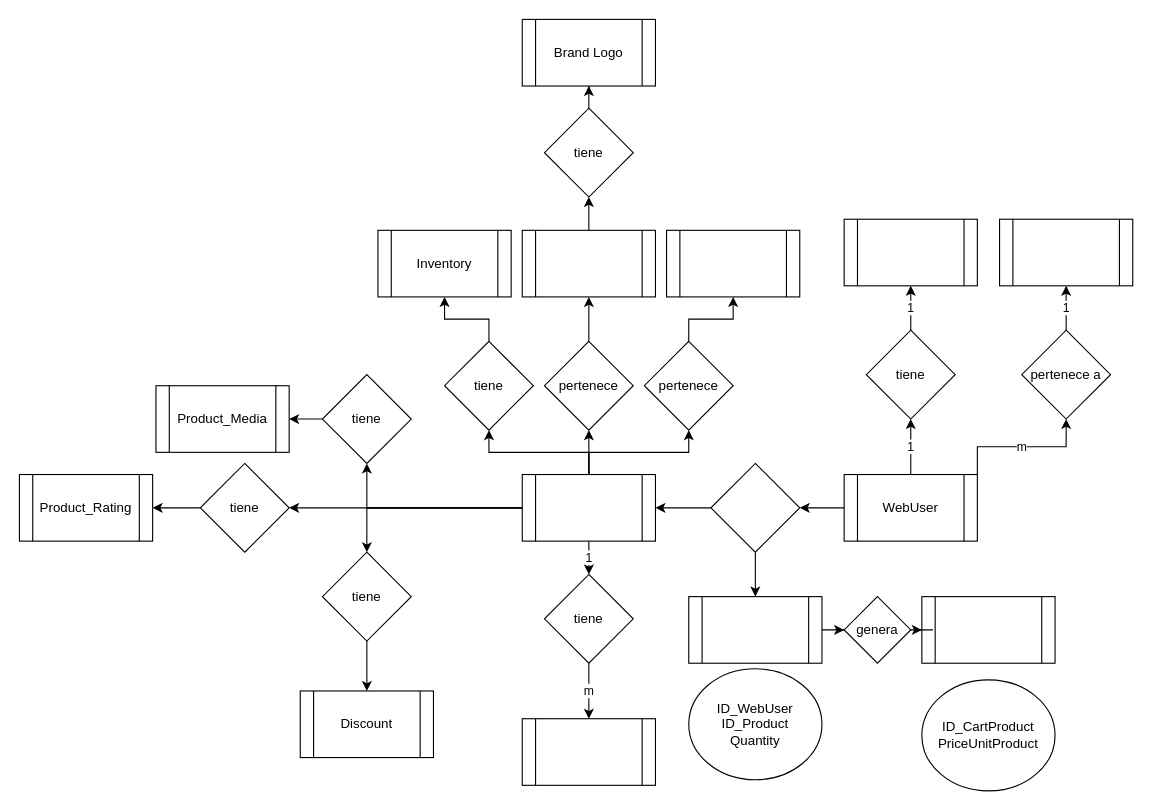
The diagram is 1152 pixels wide and 810 high, and some of its shapes have lost their labels. Each missing label, with the box of its shape:
agrega al carrito: (710, 462, 800, 552)
Brand: (521, 229, 655, 297)
Cart Product: (688, 596, 822, 663)
Comment: (521, 718, 655, 785)
Product: (521, 473, 655, 541)
Product Category: (665, 229, 800, 297)
Profile Avatar: (843, 218, 977, 286)
Profile Type: (998, 218, 1133, 286)
Purchase Details: (921, 596, 1055, 663)
